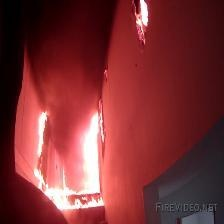fire: (38, 105, 109, 205)
